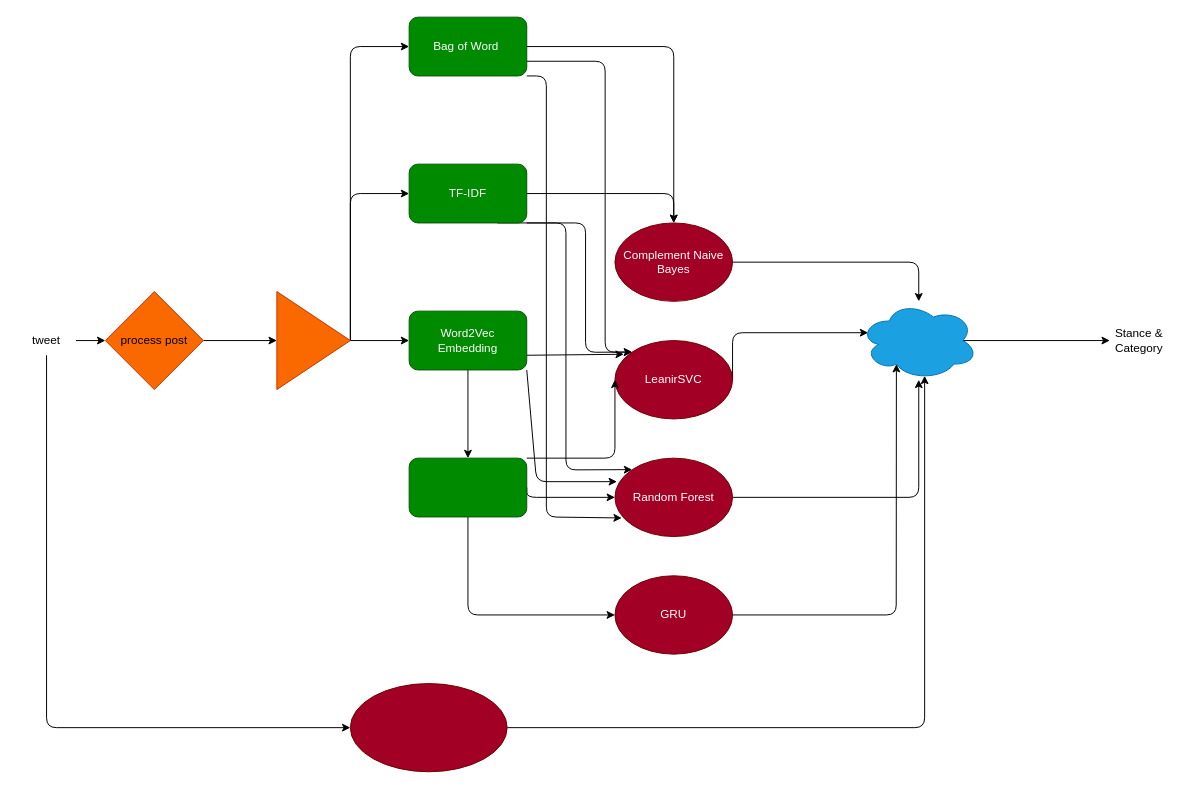
The diagram is 1185 pixels wide and 789 high, and some of its shapes have lost their labels. The shapes that lost their labels are listed below. From the top down, each one's box as (x1, y1, x2, y2) in pixels, then its label:
(276, 291, 350, 390): toknization
(859, 300, 978, 380): voting
(408, 457, 527, 517): Ara2Vec Embedding
(349, 683, 507, 772): Transformer
